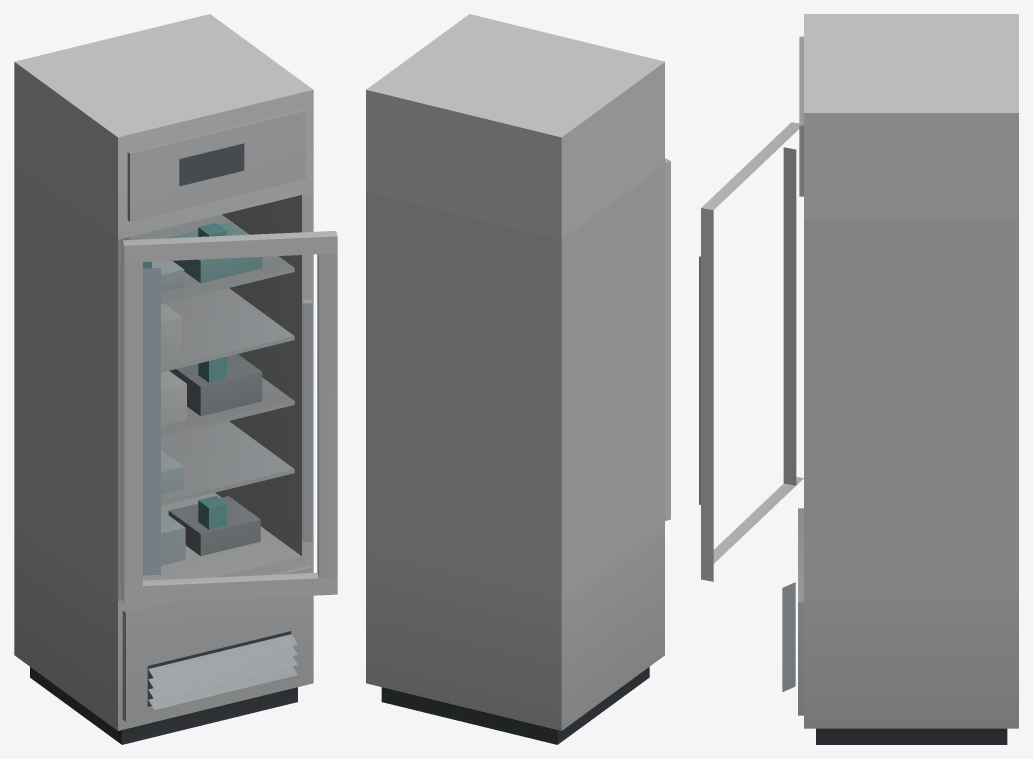
File: fridge.lod1.glb
3 renders of one model, left to right at view 1: azimuth 30°, elevation 25°; view 2: azimuth 150°, elevation 25°; view 3: azimuth 270°, elevation 25°, orthographic. The views are drawn at different scales.
Bounding box in the file's own units: 0.6 × 1.8 × 0.8191.
